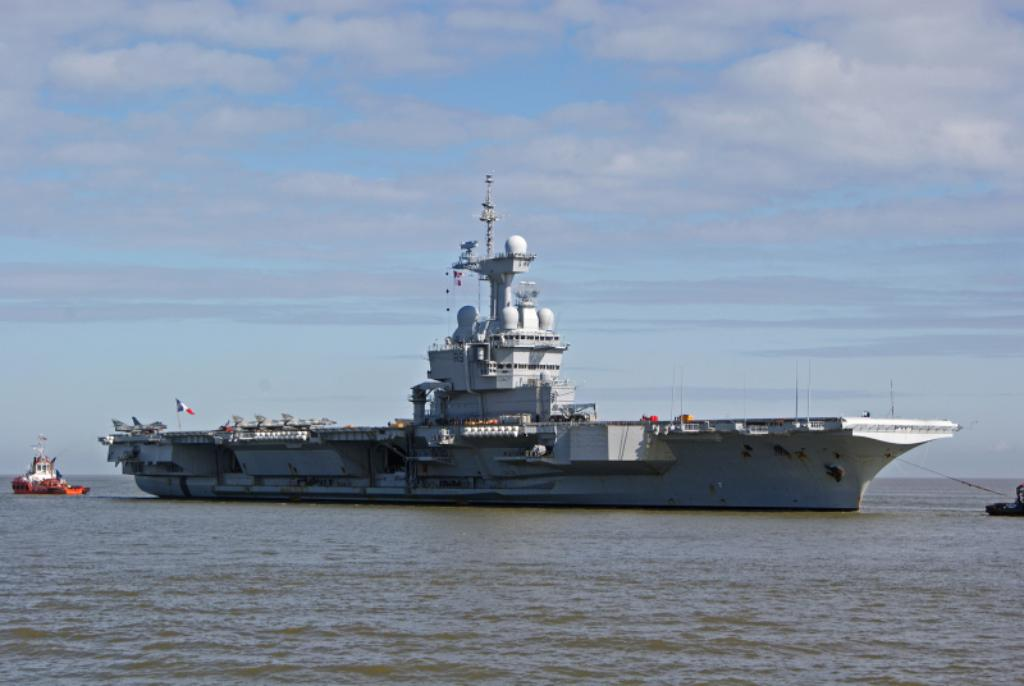Warship: (96, 156, 962, 522)
